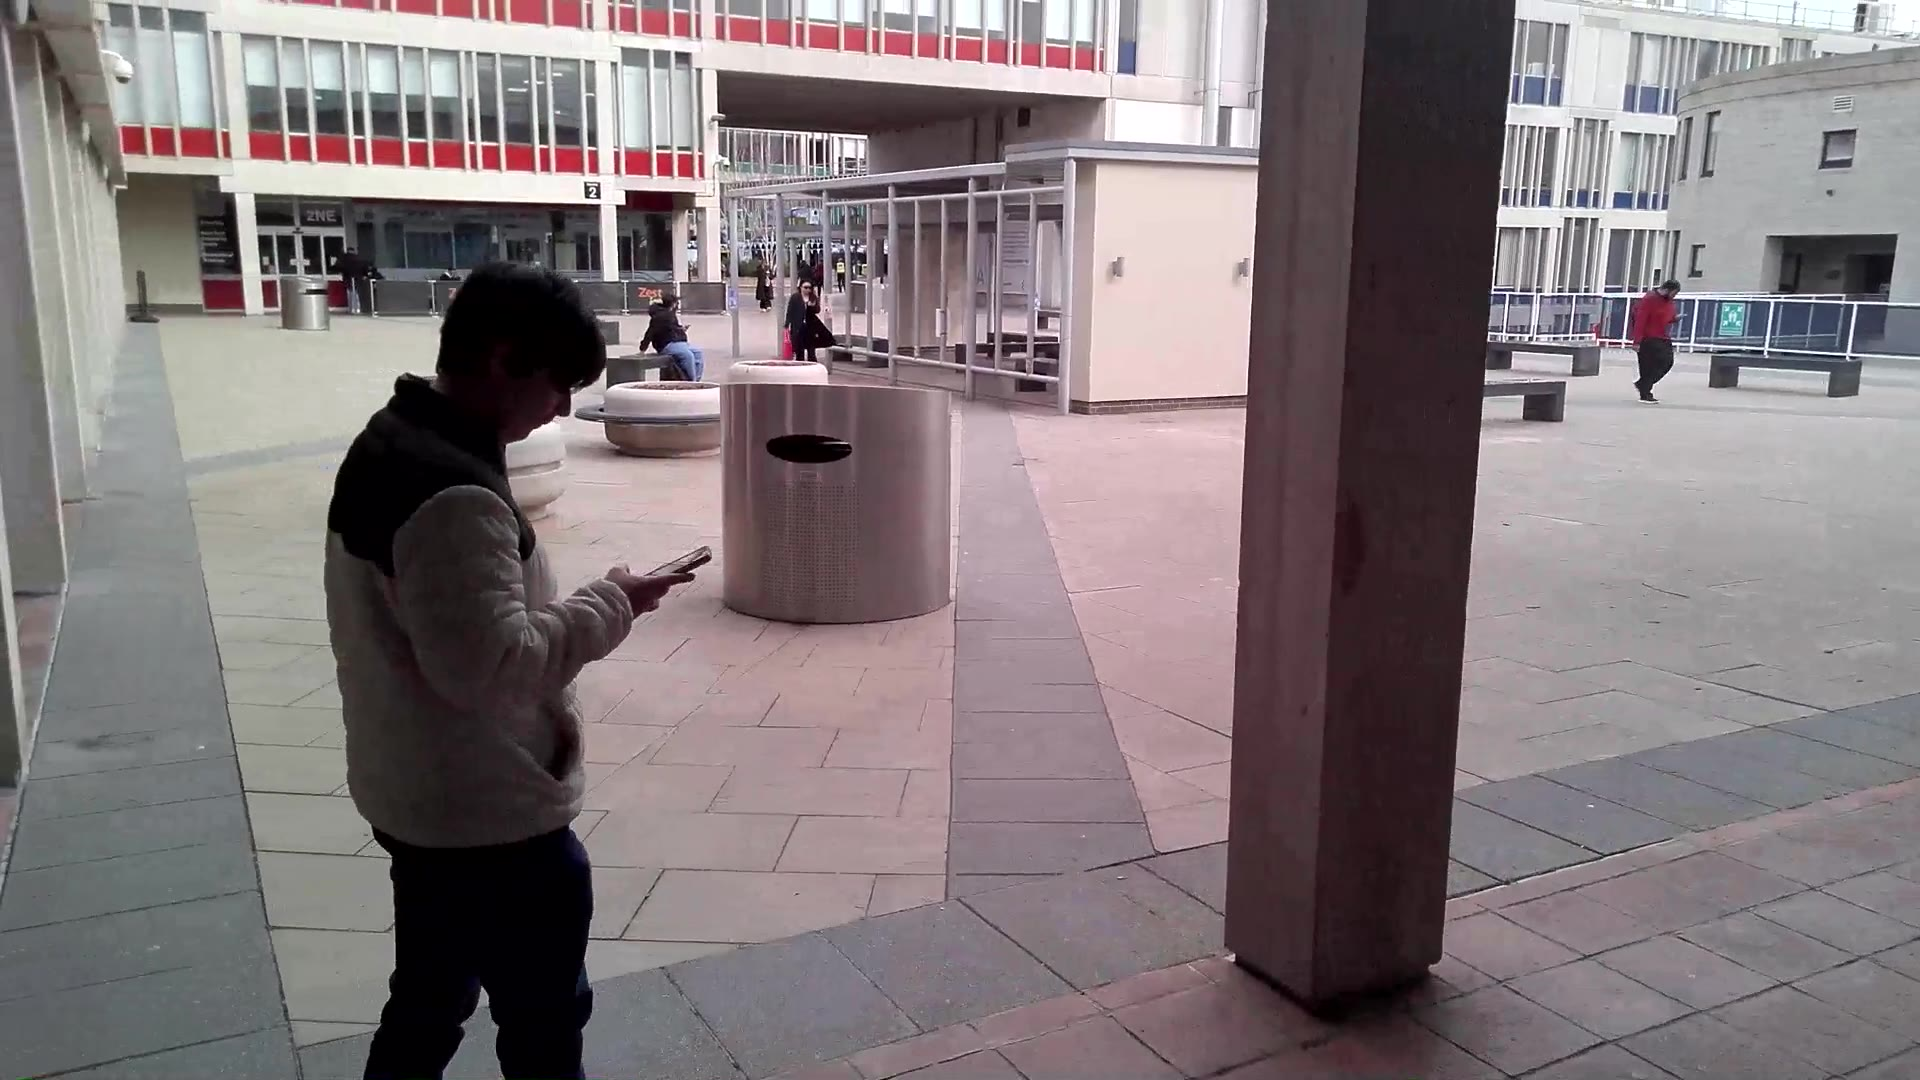Bench: (1709, 339, 1869, 407), (1490, 331, 1609, 370)
Bin: (716, 379, 953, 626), (278, 269, 336, 331)
Person: (376, 263, 634, 1080), (1626, 274, 1685, 411), (641, 293, 709, 362), (784, 281, 829, 370)
